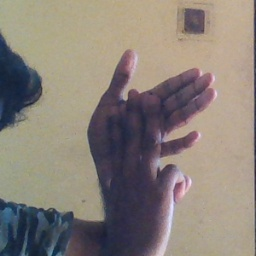M: (86, 49, 217, 218)
